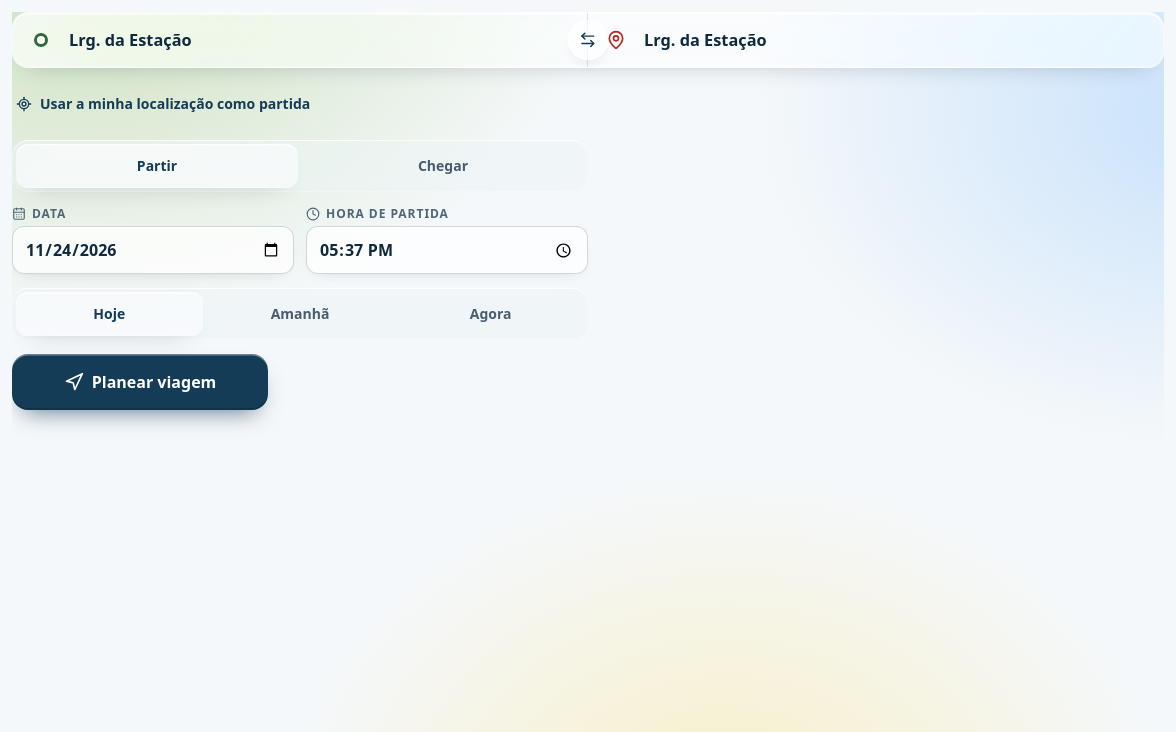
Test case: PlannerForm › não deixa origem e destino iguais
Click the button "Planear viagem" at (140, 382), box [12,354,268,410]
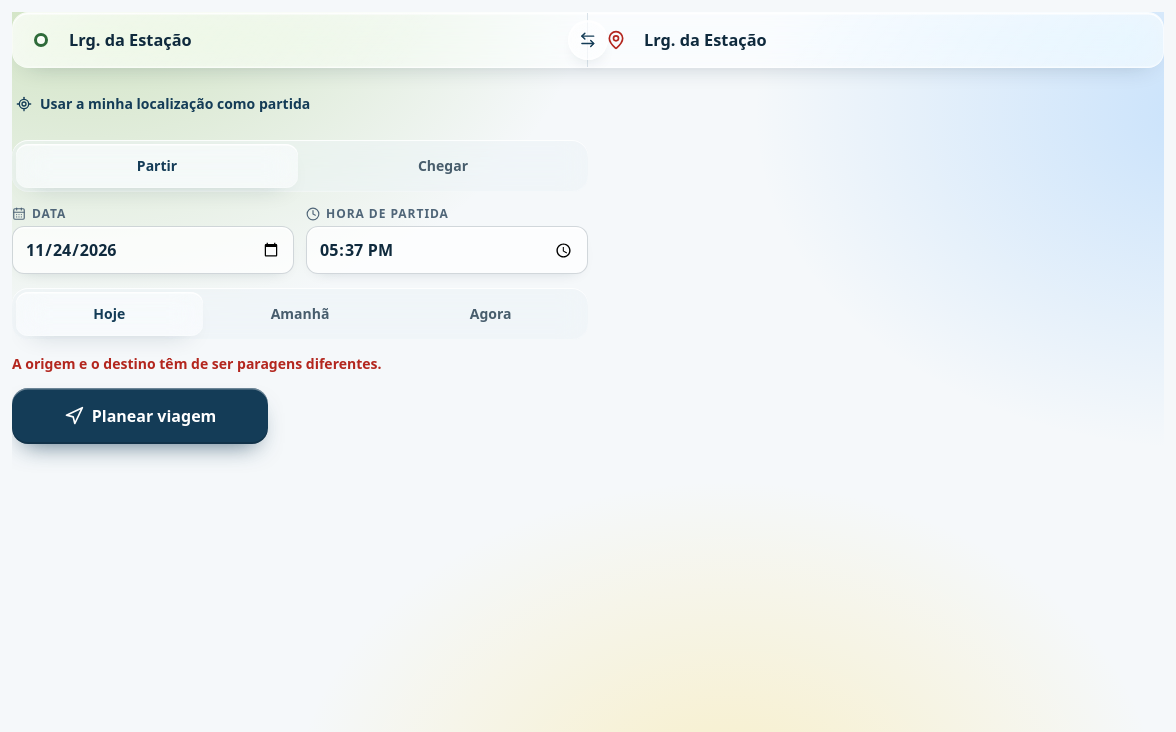
Result: the message shows "diferentes" at [12,354,382,373]
